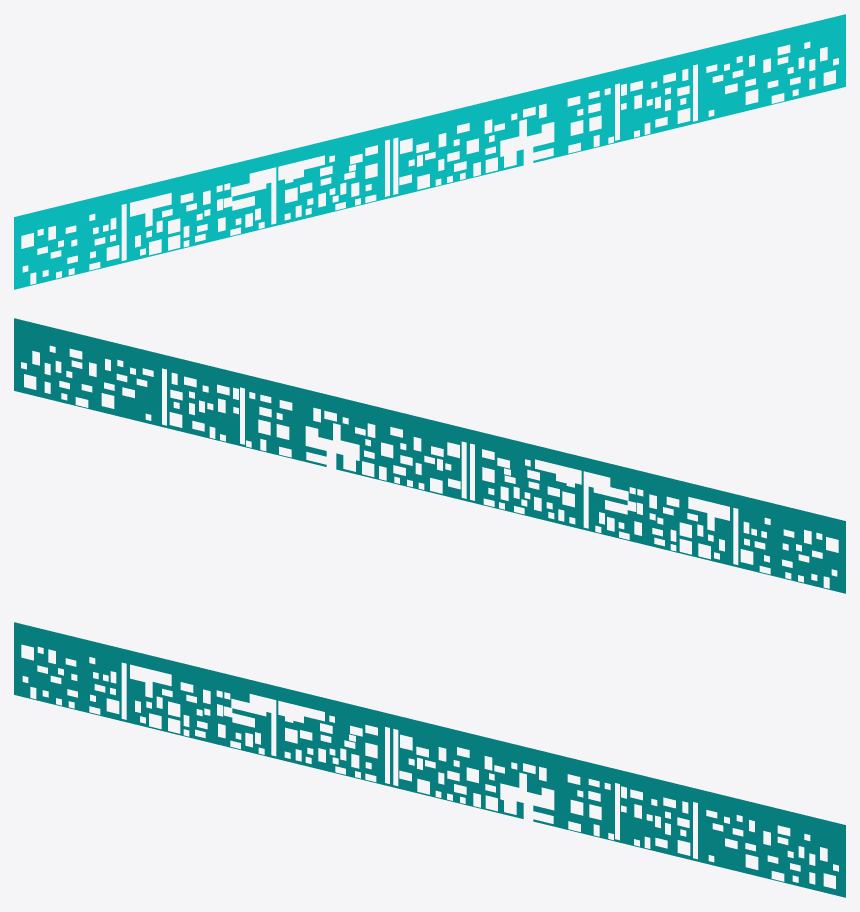
Rendered from Sample_UniteRooftop_Xenakis.glb.
3 views of the same model, one above another, from view 1: azimuth 30°, elevation 25°; view 2: azimuth 150°, elevation 25°; view 3: azimuth 330°, elevation 25° (orthographic).
Size of the model in its own units: 46.39 by 3.88 by 0.
